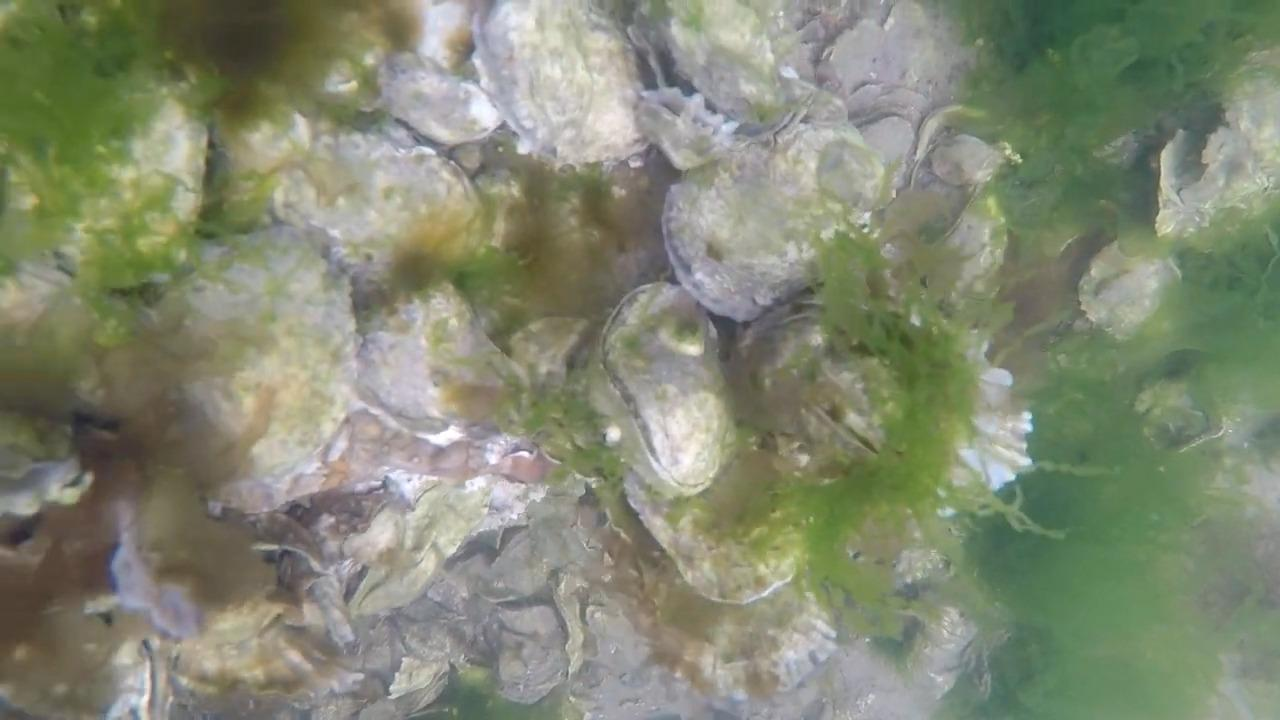Oyster: (153, 229, 357, 492), (660, 126, 887, 321), (662, 122, 880, 323), (595, 280, 739, 500), (593, 279, 735, 498), (281, 129, 488, 278), (471, 1, 651, 172), (735, 295, 908, 471), (623, 564, 841, 699), (622, 463, 809, 610), (74, 85, 214, 275), (354, 275, 513, 442), (336, 474, 497, 622), (1153, 69, 1280, 241), (0, 602, 174, 718), (639, 1, 792, 129), (0, 255, 115, 416), (814, 5, 950, 123), (166, 620, 359, 698), (214, 87, 333, 210), (375, 48, 506, 152), (499, 311, 602, 428), (1075, 237, 1185, 344), (627, 82, 747, 175), (795, 121, 890, 219), (1131, 367, 1223, 455), (917, 126, 1016, 195), (1152, 124, 1213, 231)
